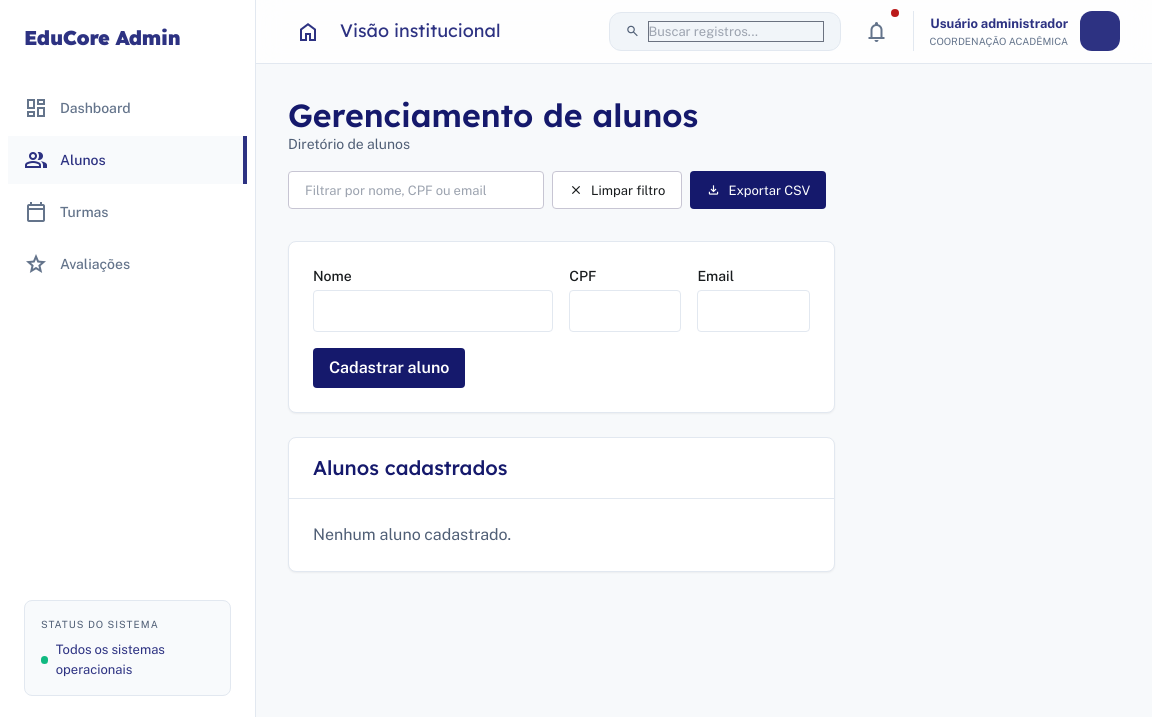
Test: Tela de turmas › edita turma com sucesso
The image size is (1152, 717).
Expected: the heading "Gerenciamento de alunos" is shown, [288,96,698,134]
Click the button "Turmas" at (128, 212), box [8,188,247,236]
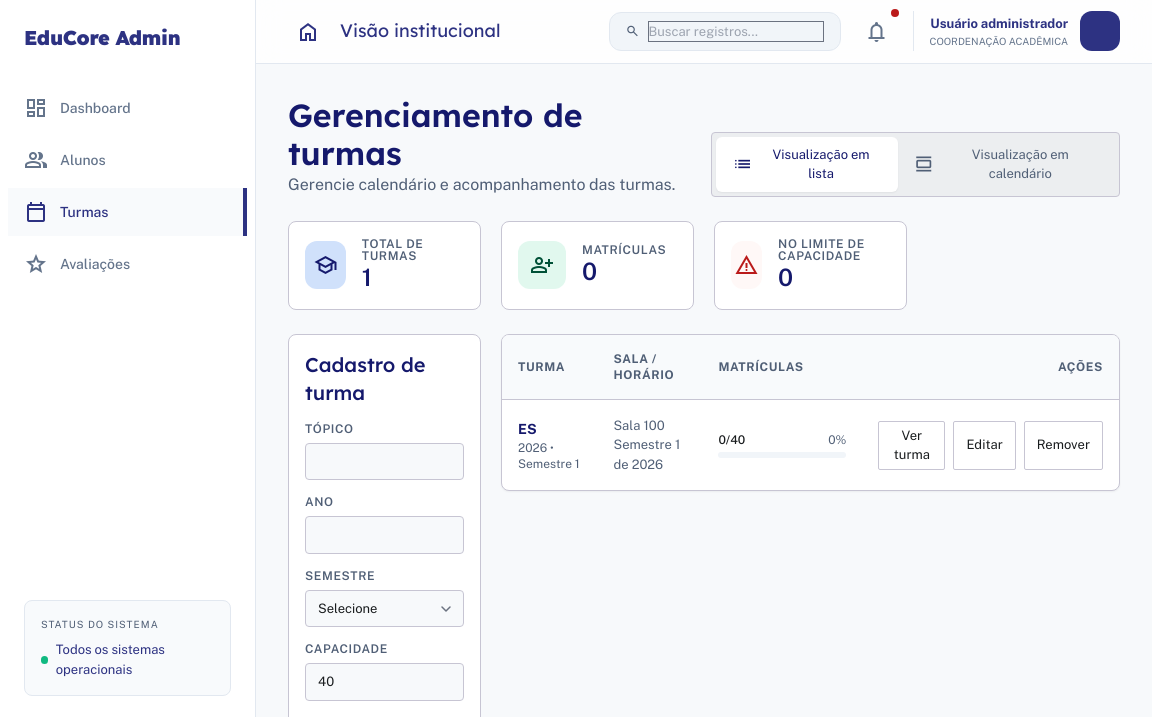
Click the button "Editar" at (985, 445), box [953,421,1016,470]
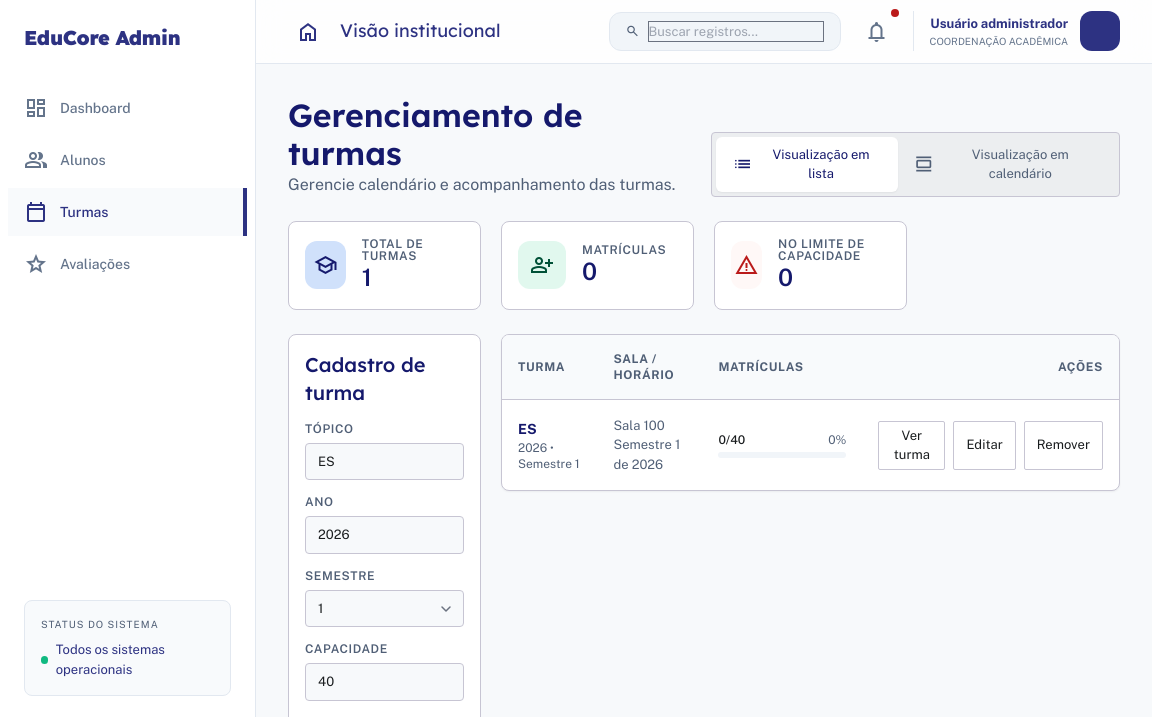
Replace the text in the field labelled "TÓPICO" with "Testes" at (384, 462), box [305,443,464,480]
(page scrolled)
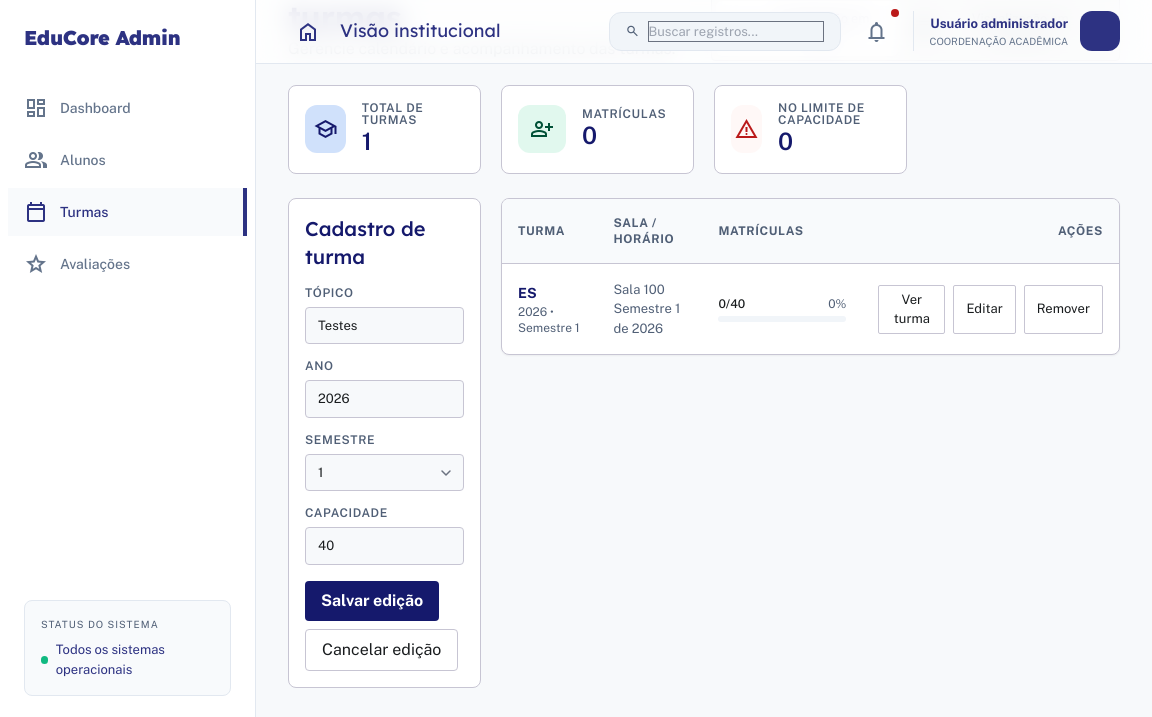
Click the button "Salvar edição" at (372, 601), box [305,581,439,621]
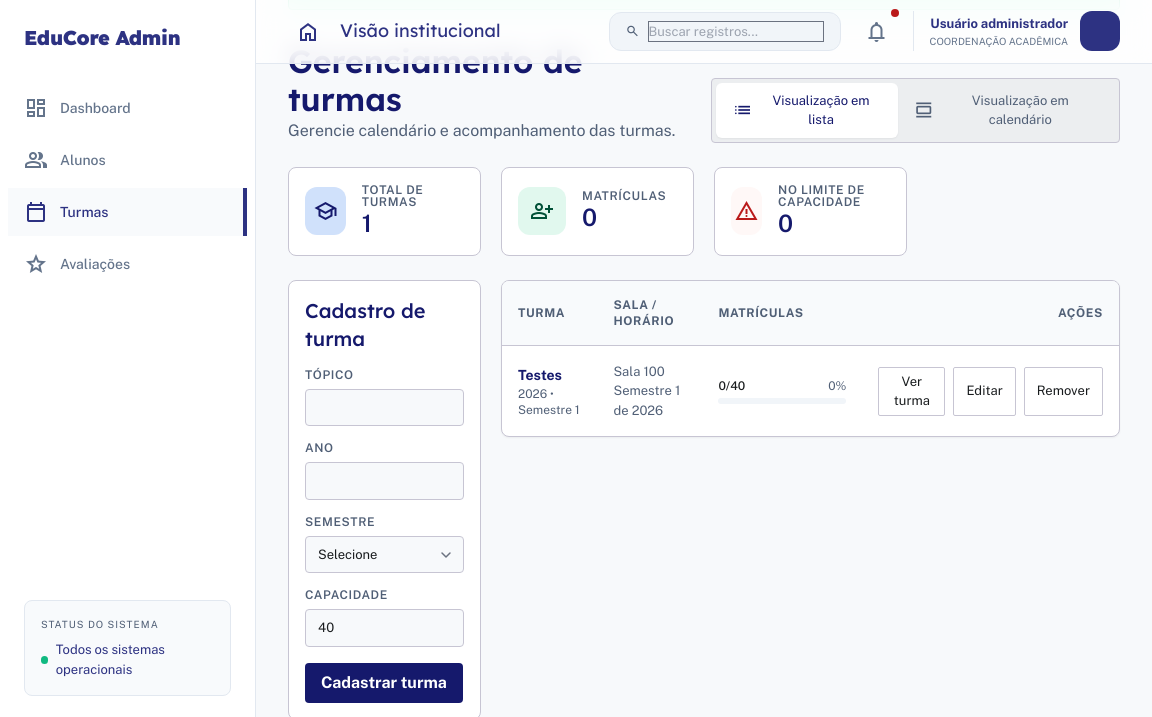
Now the text "Testes" is shown, box [518,367,562,383]
